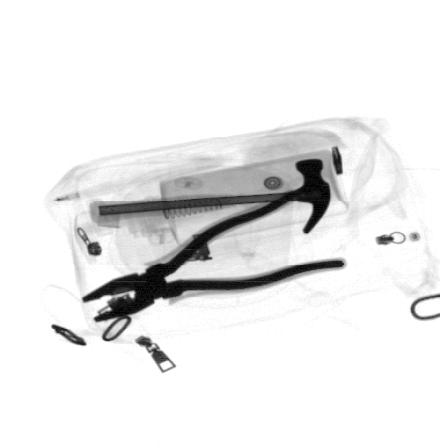Hammer: (88, 158, 333, 235)
Pliers: (84, 186, 348, 321)
